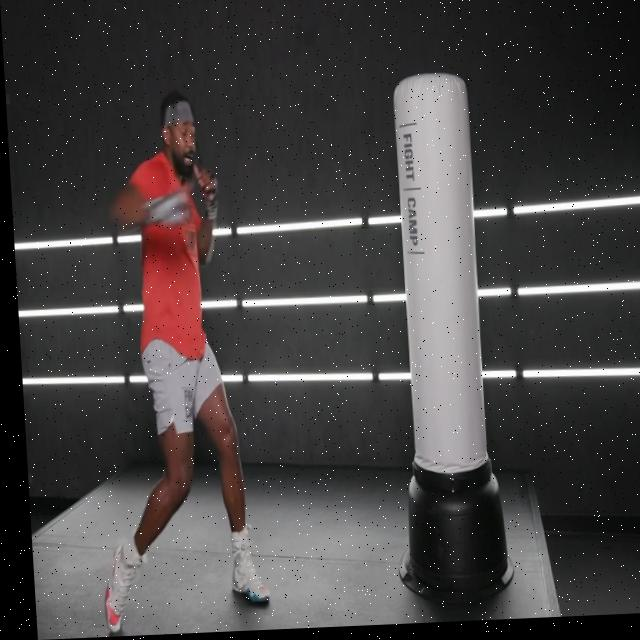Hook: (95, 103, 243, 347)
